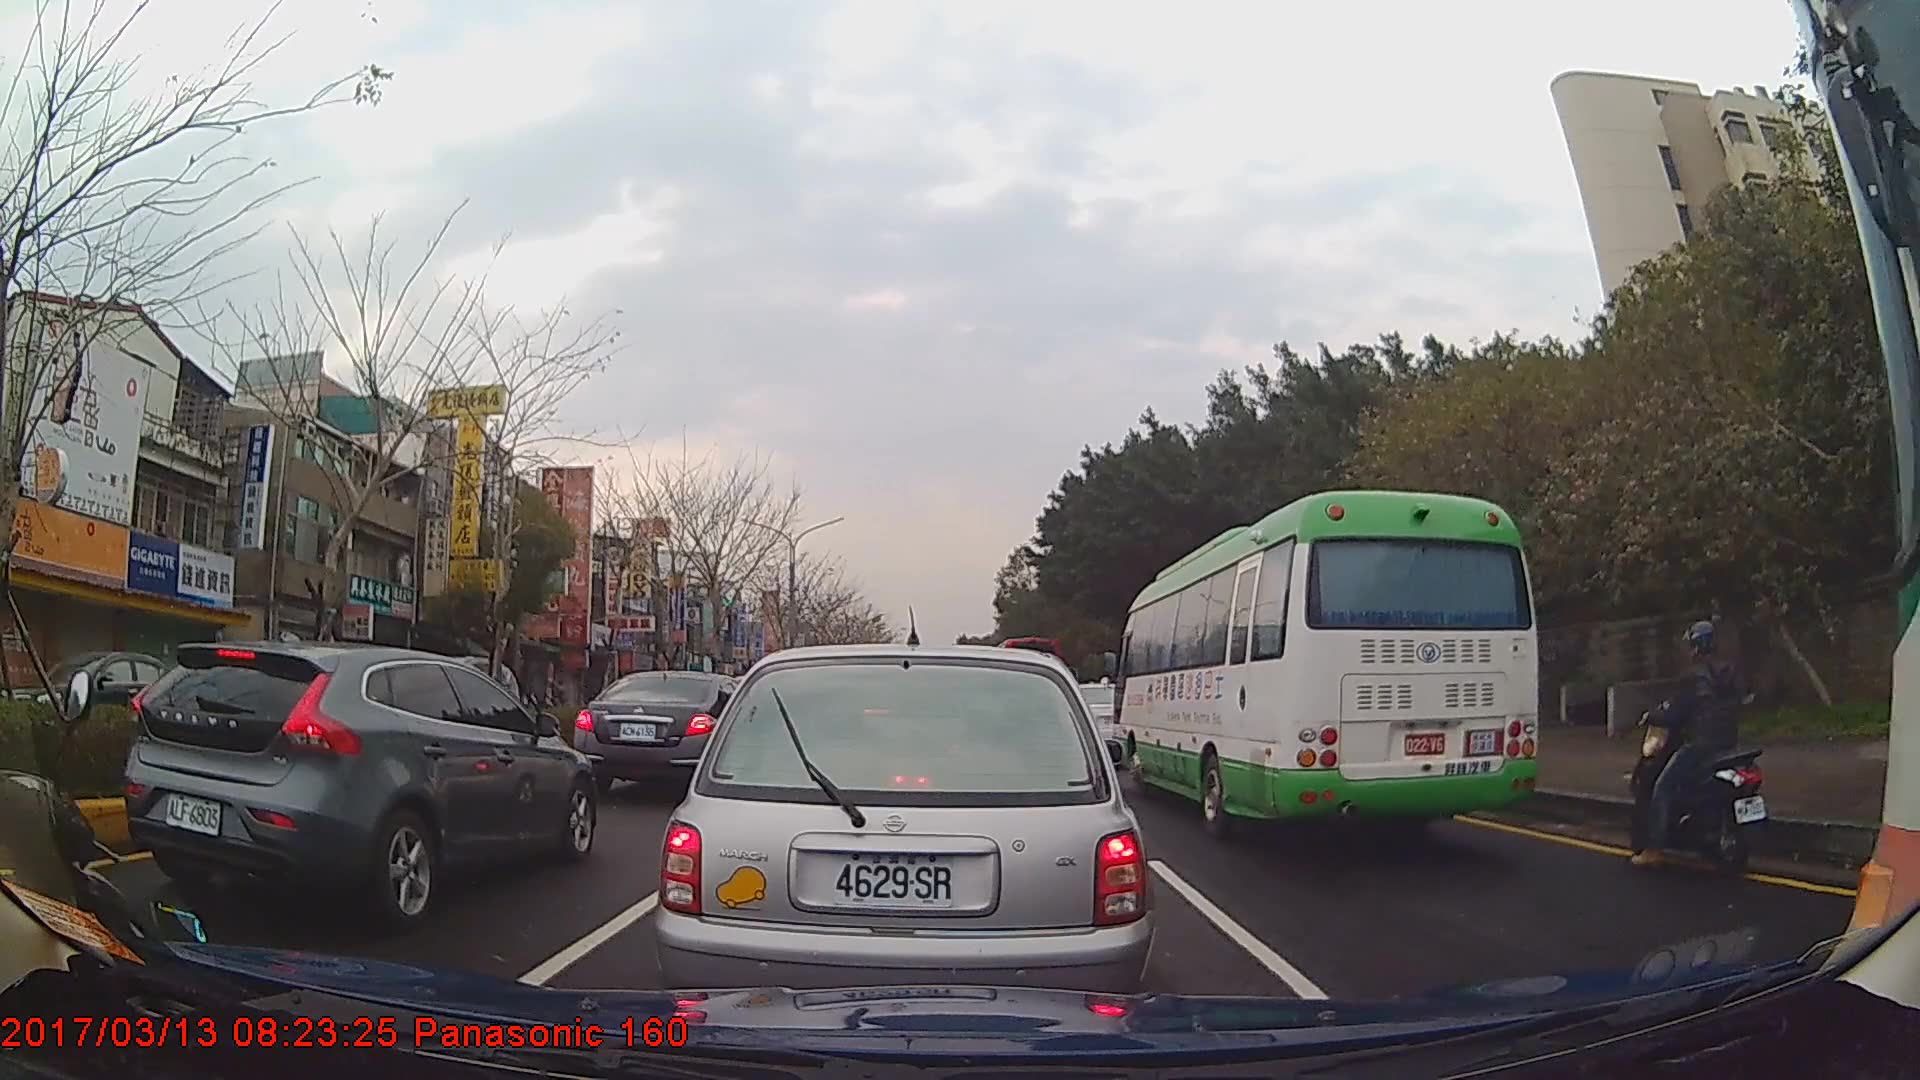rider: (1626, 616, 1762, 872)
vehicle: (659, 641, 1158, 1038), (1113, 489, 1538, 833), (121, 644, 595, 926), (572, 670, 760, 806), (0, 647, 206, 748), (375, 653, 521, 753)
